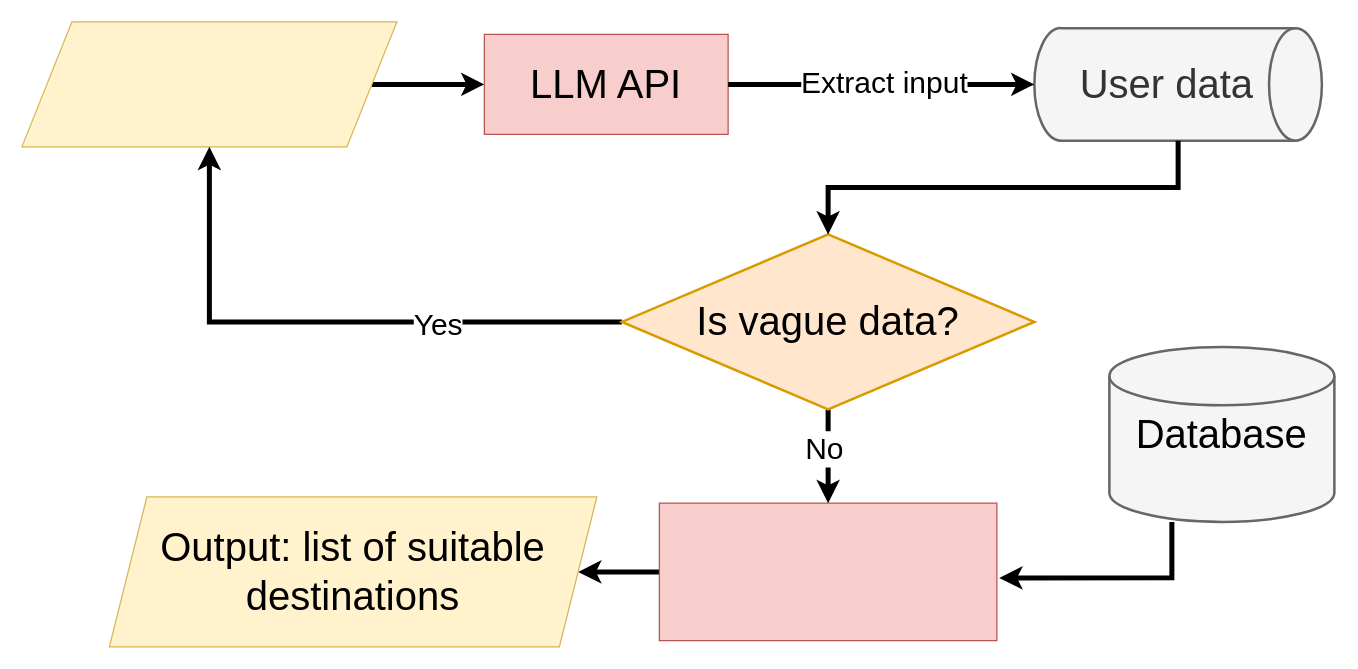
Some shapes in this 1358 by 669 pixel diagram are drawn without their labels. The shapes that lost their labels are listed below. From the top down, each one's centre as x and y in pixels, then its label:
the point at 209,84: Input: user preference
the point at 827,571: Recommender system
